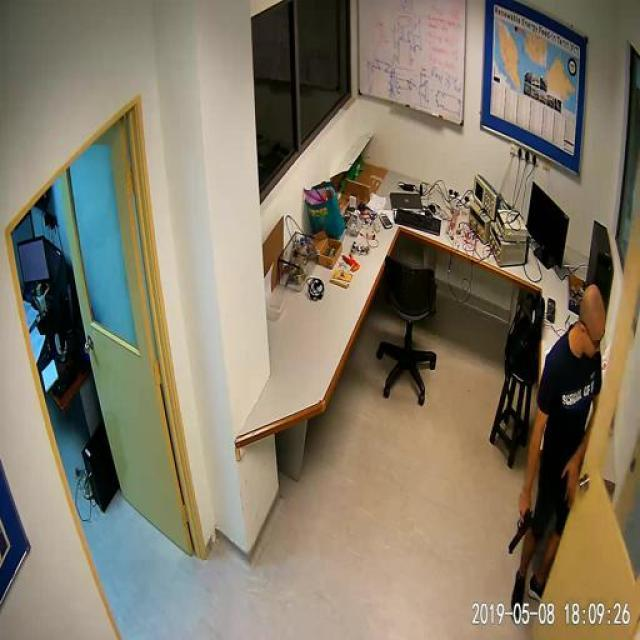Gun: (498, 504, 544, 562)
